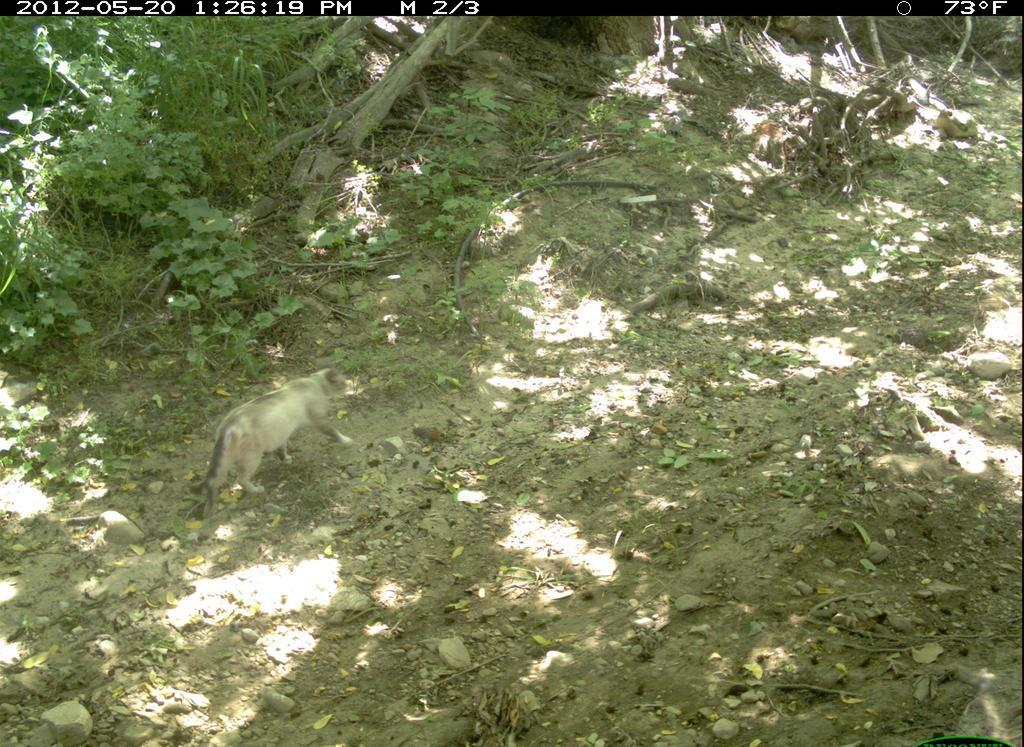cat: (177, 363, 367, 533)
